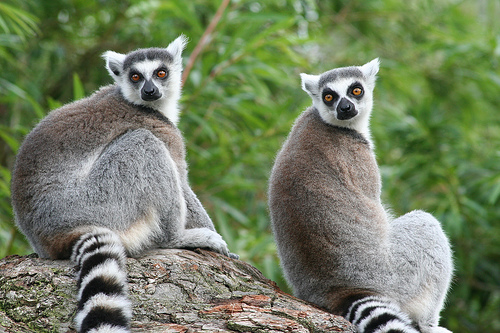cat: (11, 32, 238, 332), (269, 57, 455, 332)
